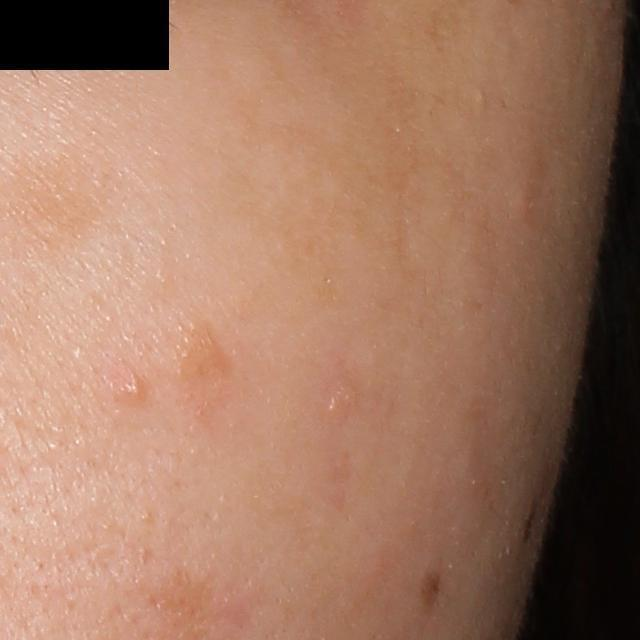comedo: (120, 377, 148, 402)
melasma: (32, 150, 112, 239), (183, 328, 237, 410)
nevus: (422, 570, 439, 612)
